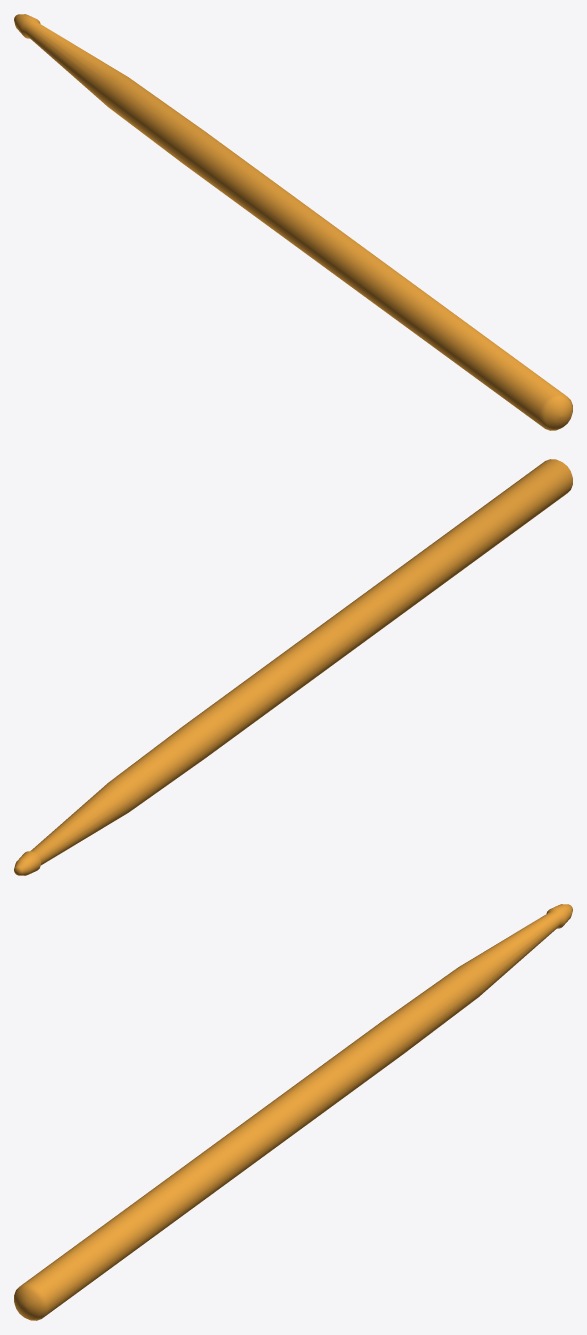
Rendered from stick.glb.
The picture shows the model from 3 angles, top to bottom: view 1: azimuth 30°, elevation 25°; view 2: azimuth 150°, elevation 25°; view 3: azimuth 330°, elevation 25°; orthographic projection.
Visible parts, largest first — view 1: Cylinder; view 2: Cylinder; view 3: Cylinder.
Boxes of the visible parts, left/top/right/bottom form: Cylinder: left=14, top=14, right=572, bottom=430; Cylinder: left=14, top=459, right=572, bottom=875; Cylinder: left=14, top=904, right=572, bottom=1320.
Size of the model in its own units: 0.0355 by 0.036 by 0.9977.
